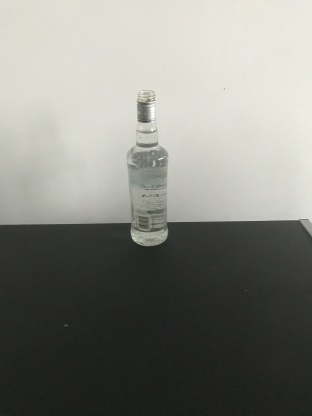nakretka: (135, 87, 157, 124)
